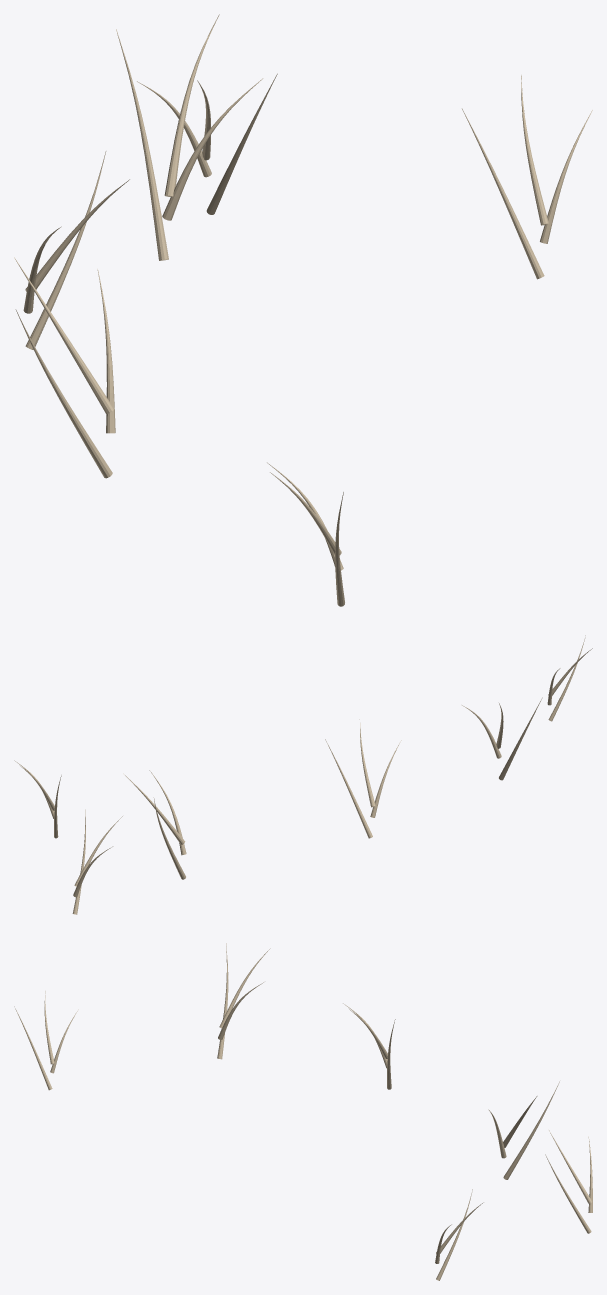
File: eucalyptus--warm-bark.glb
The picture shows the model from 3 angles, top to bottom: view 1: azimuth 30°, elevation 25°; view 2: azimuth 150°, elevation 25°; view 3: azimuth 270°, elevation 25°; orthographic projection. The views are drawn at different scales.
Visible parts, largest first — view 1: eucalyptus-2, eucalyptus-4, eucalyptus-3, eucalyptus-1, eucalyptus-6, eucalyptus-5; view 2: eucalyptus-1, eucalyptus-2, eucalyptus-4, eucalyptus-6, eucalyptus-5, eucalyptus-3; view 3: eucalyptus-2, eucalyptus-4, eucalyptus-6, eucalyptus-5, eucalyptus-3, eucalyptus-1.
Boxes of the visible parts, x1,y1,x2,y2 form: eucalyptus-2: (116,14,263,260); eucalyptus-4: (14,257,115,478); eucalyptus-3: (462,75,592,279); eucalyptus-1: (23,151,129,349); eucalyptus-6: (137,73,277,214); eucalyptus-5: (267,462,344,606); eucalyptus-1: (325,719,401,838); eucalyptus-2: (123,770,186,879); eucalyptus-4: (462,697,542,780); eucalyptus-6: (72,809,122,914); eucalyptus-5: (547,635,592,721); eucalyptus-3: (14,760,61,838); eucalyptus-2: (488,1081,559,1179); eucalyptus-4: (217,943,270,1059); eucalyptus-6: (545,1130,592,1233); eucalyptus-5: (14,991,78,1090); eucalyptus-3: (435,1189,483,1280); eucalyptus-1: (343,1003,395,1089).
Bounding box in the file's own units: 35.07 × 12.98 × 42.75.
